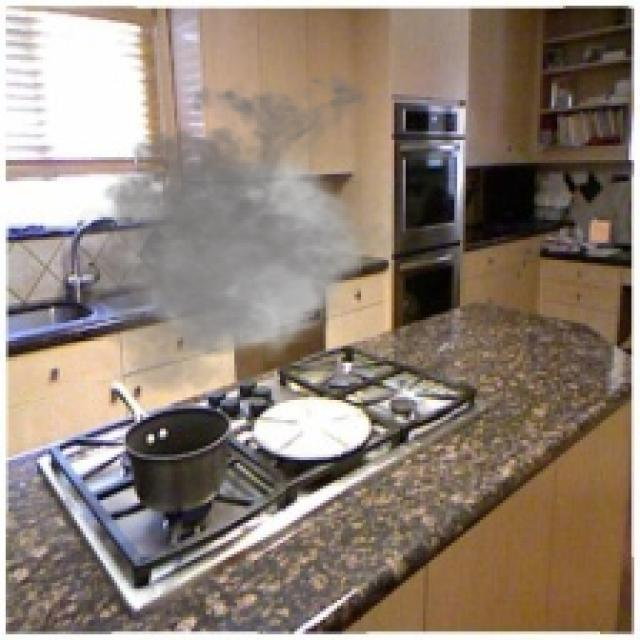Smoke: (54, 62, 432, 408)
